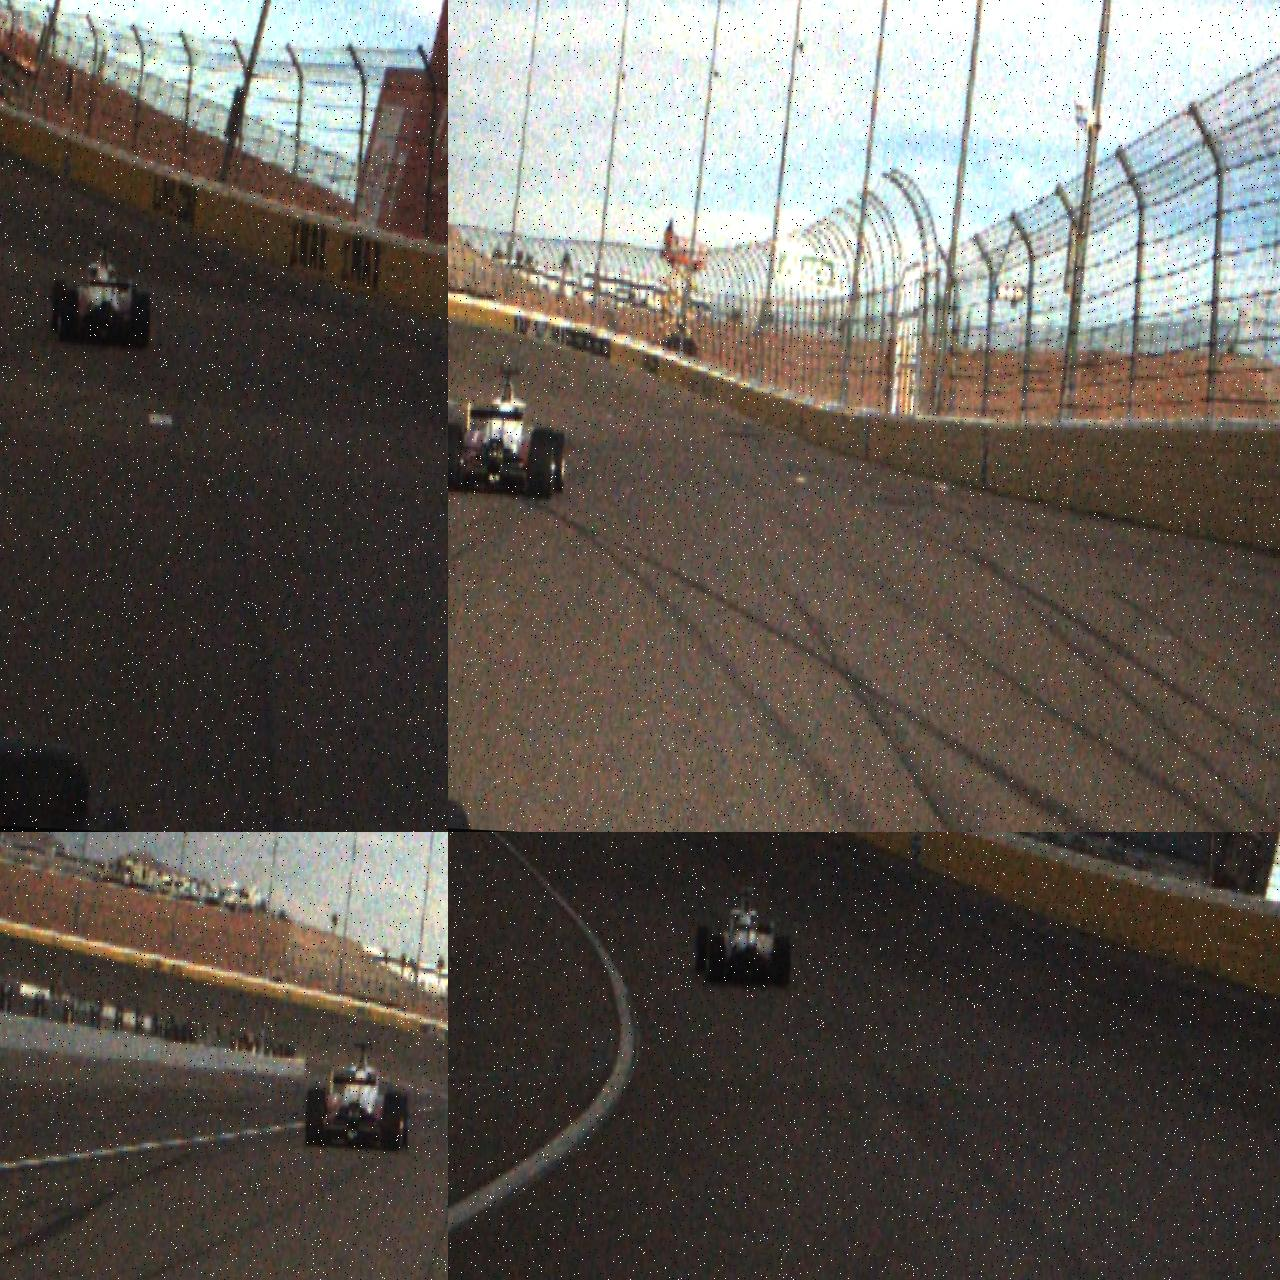AV: (448, 362, 569, 498), (303, 1038, 414, 1152), (48, 238, 154, 350), (692, 880, 795, 990)
Wheel: (526, 427, 556, 498), (303, 1088, 327, 1148), (381, 1092, 404, 1152), (130, 289, 152, 349), (545, 432, 566, 493), (448, 421, 464, 493), (58, 288, 78, 343), (704, 934, 725, 986), (772, 935, 792, 989), (49, 277, 66, 331), (692, 925, 711, 972)
